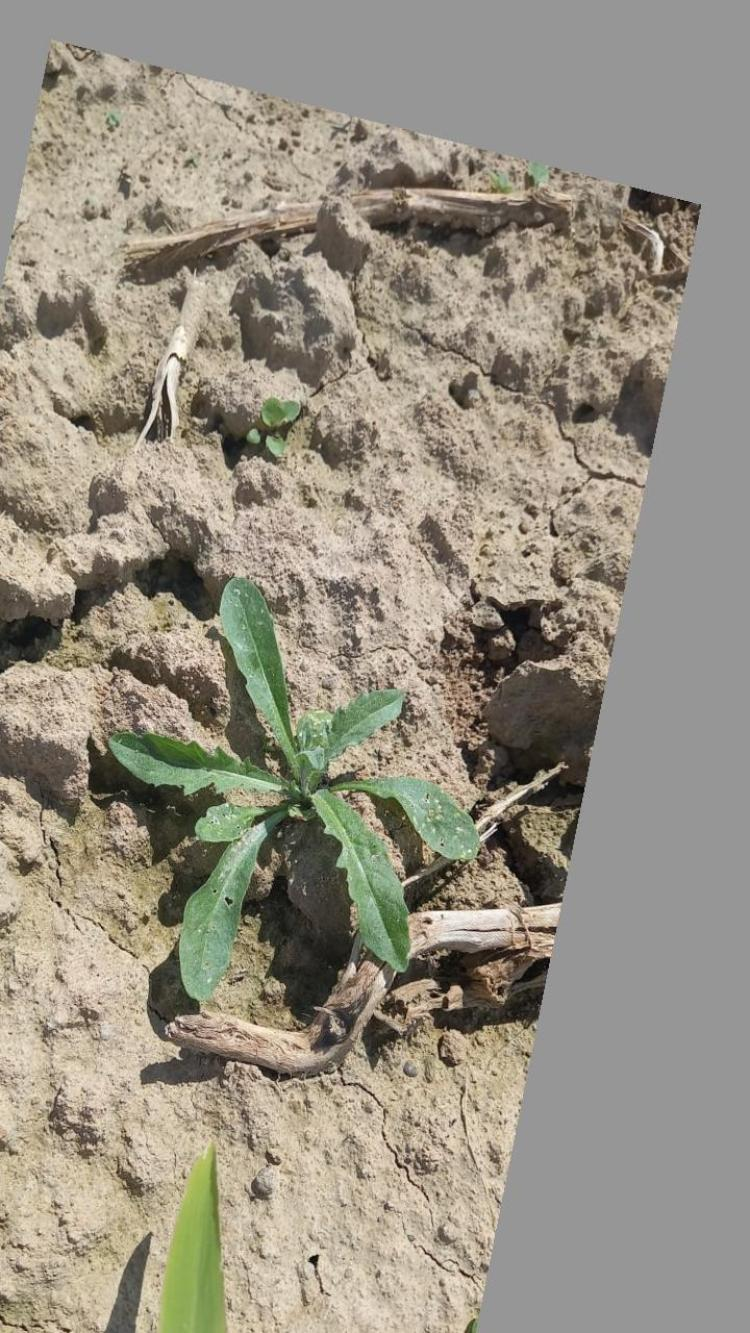osot: (93, 579, 487, 1010)
